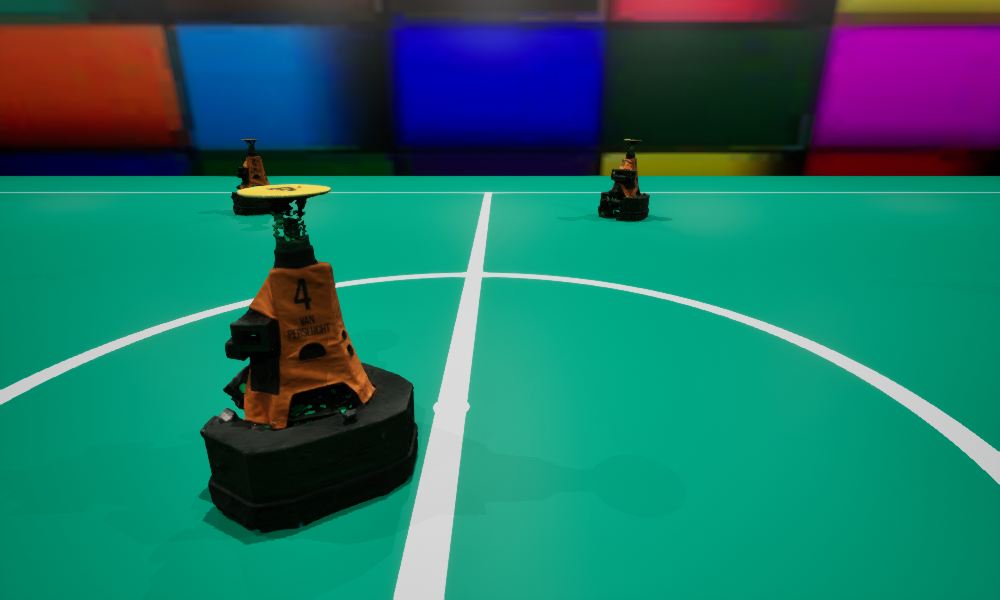0 orange robot TechUnited: (200, 184, 417, 532), (598, 139, 649, 220), (231, 139, 285, 214)
